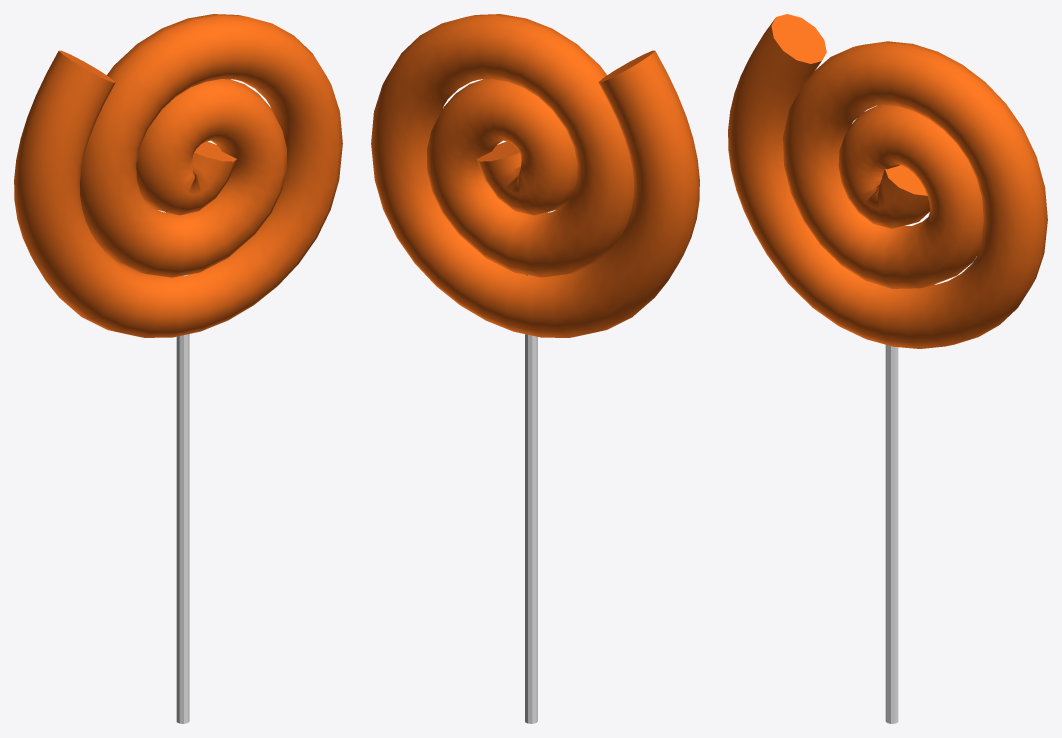
The model's file is Lollipop_Orange.fbx.
The picture shows the model from 3 angles, left to right: view 1: azimuth 30°, elevation 25°; view 2: azimuth 150°, elevation 25°; view 3: azimuth 330°, elevation 25°; orthographic projection. The views are drawn at different scales.
Parts seen in each view (by area): view 1: BézierCurve, Cylinder.007; view 2: BézierCurve, Cylinder.007; view 3: BézierCurve, Cylinder.007.
Boxes of the visible parts, box(x1,y1,x2,y2) form: BézierCurve: box(14, 14, 342, 337); Cylinder.007: box(176, 274, 189, 723); BézierCurve: box(371, 14, 699, 337); Cylinder.007: box(525, 275, 537, 723); BézierCurve: box(728, 14, 1047, 348); Cylinder.007: box(885, 287, 898, 723).
Bounding box in the file's own units: 47.37 × 98.66 × 8.44.
